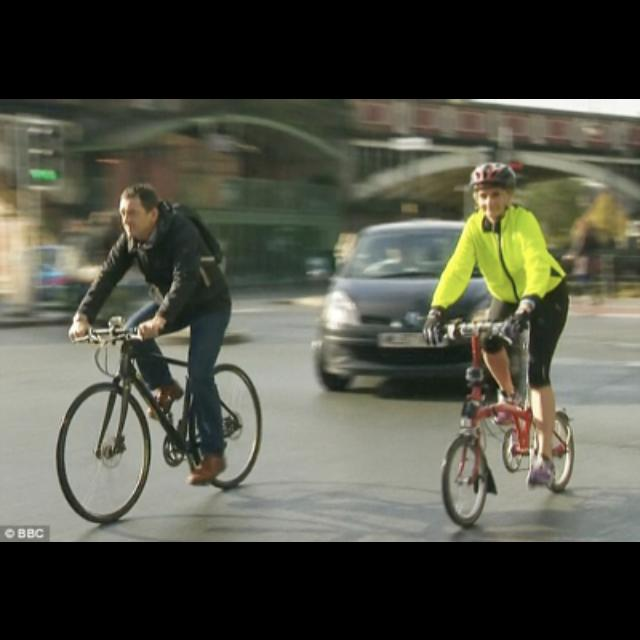With Helmet: (459, 148, 528, 220)
Without Helmet: (109, 172, 171, 244)
